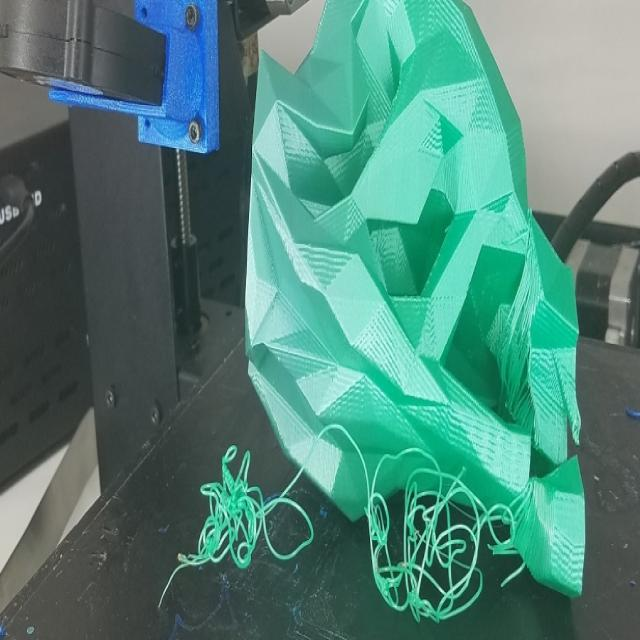spaghetti: (363, 450, 519, 626), (169, 446, 314, 594)
